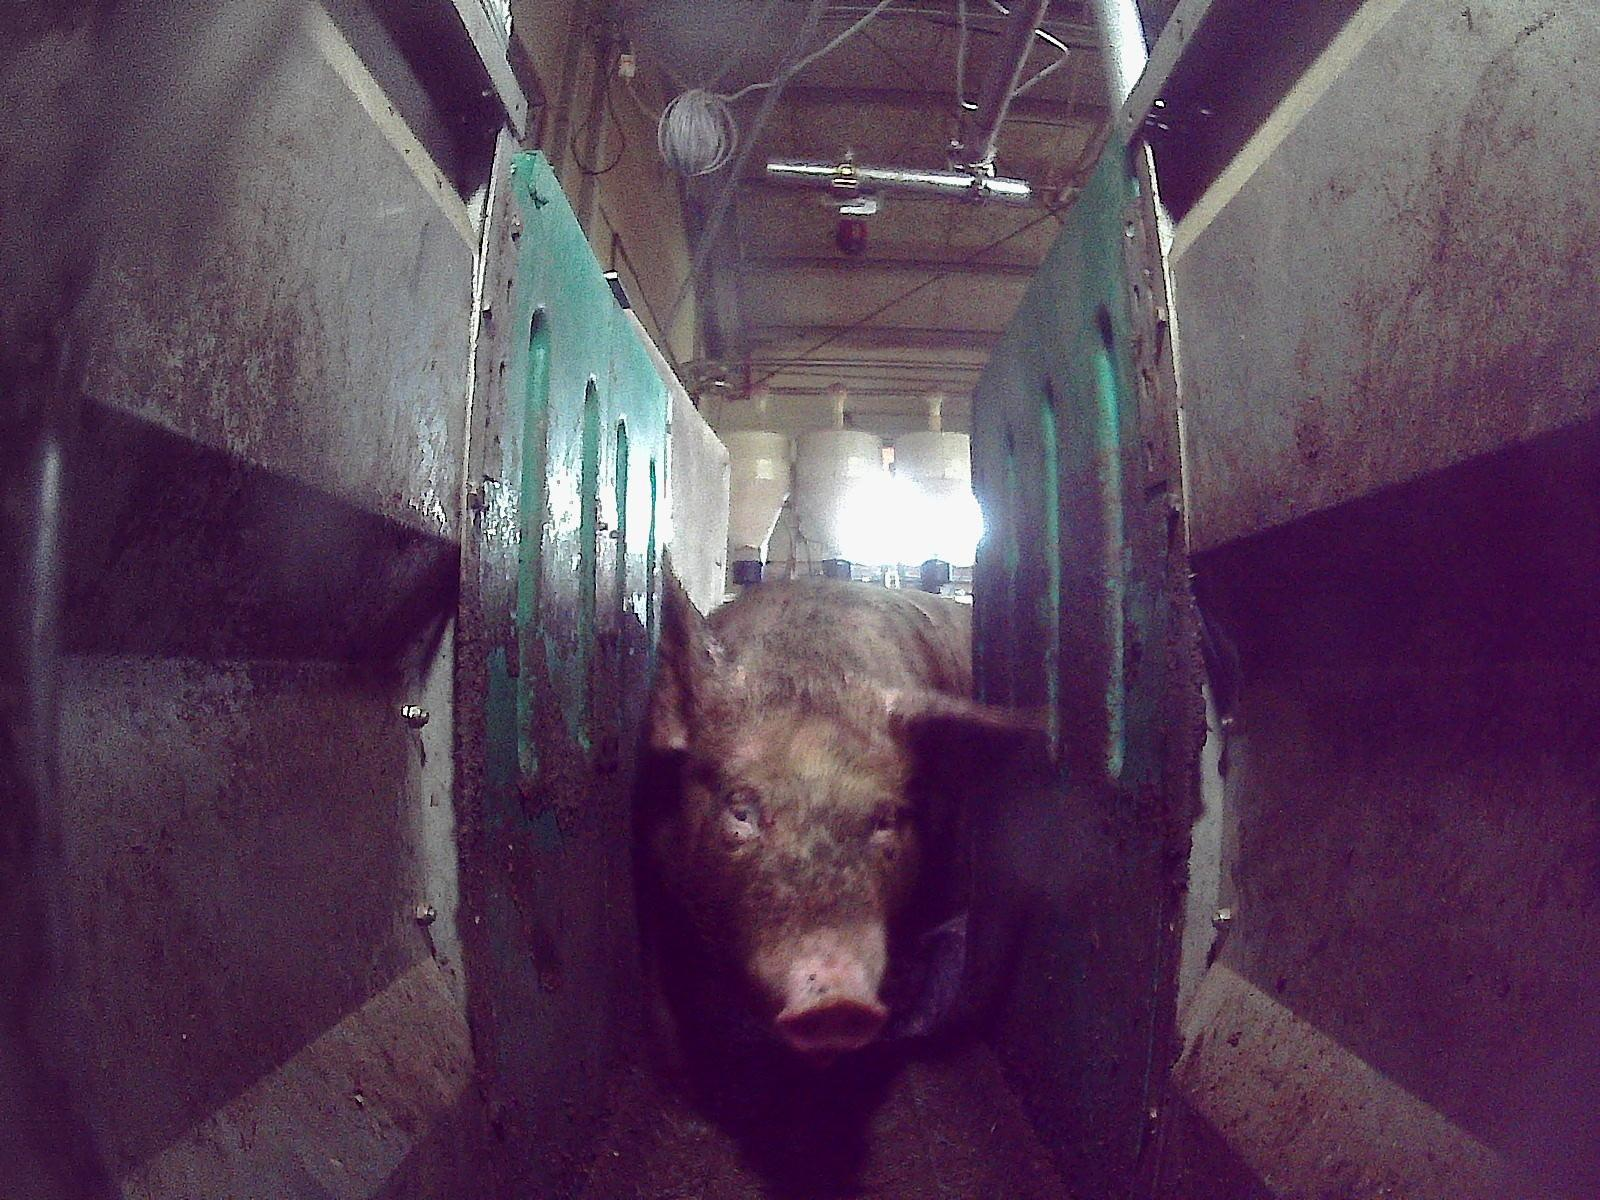Face: (673, 697, 920, 1059)
